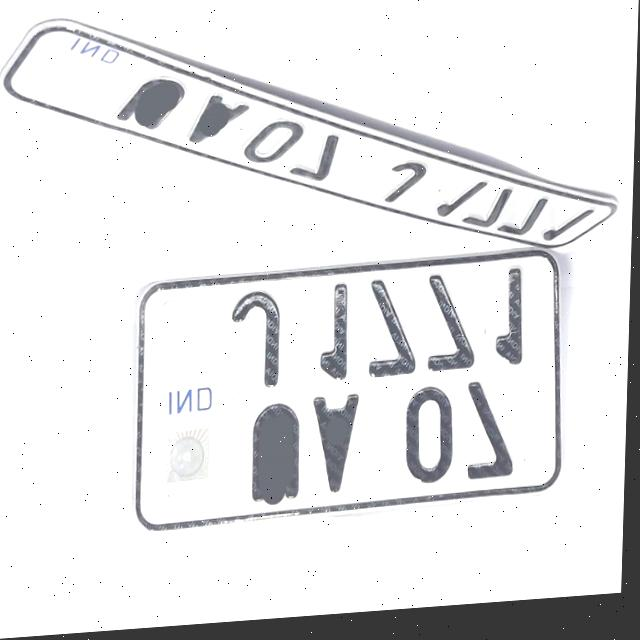plate: (0, 0, 640, 293), (128, 246, 572, 548)
